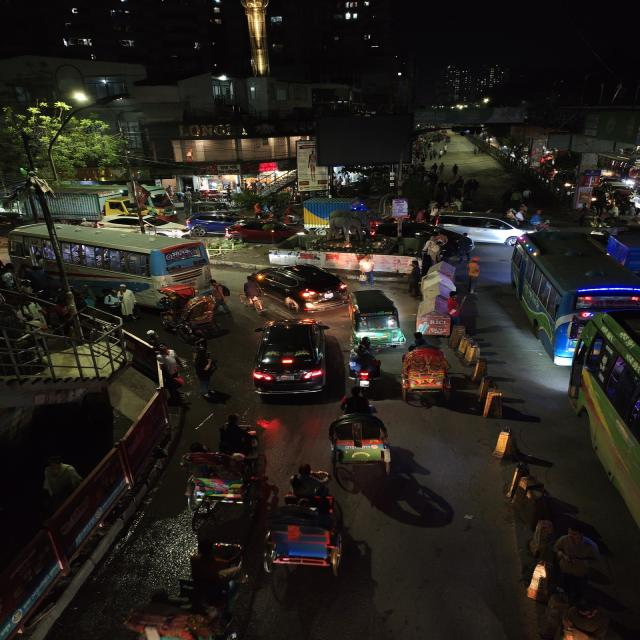bus: (567, 310, 640, 582), (4, 220, 214, 306), (508, 231, 638, 363), (147, 192, 175, 218)
car: (246, 318, 334, 400), (246, 262, 350, 313), (436, 210, 540, 247), (226, 220, 300, 248), (184, 211, 244, 238)
cng: (347, 288, 405, 346)
motorcycle: (347, 339, 383, 389)
pedestrian: (189, 341, 222, 401), (462, 256, 484, 294), (503, 187, 527, 216), (458, 176, 482, 202), (358, 256, 378, 286), (405, 260, 422, 293), (443, 290, 462, 318)
rickshaw: (260, 496, 354, 580), (178, 441, 264, 513), (325, 398, 398, 477), (117, 587, 205, 640), (395, 343, 463, 405), (157, 290, 219, 340)
truck: (63, 189, 141, 220), (301, 200, 380, 226), (603, 229, 640, 277)
